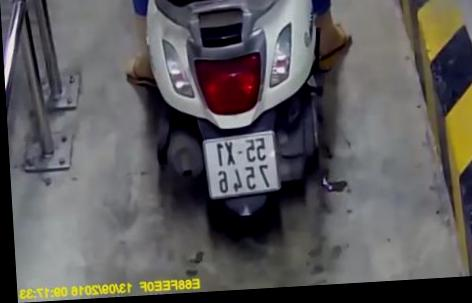License_Plate: (199, 126, 286, 204)
